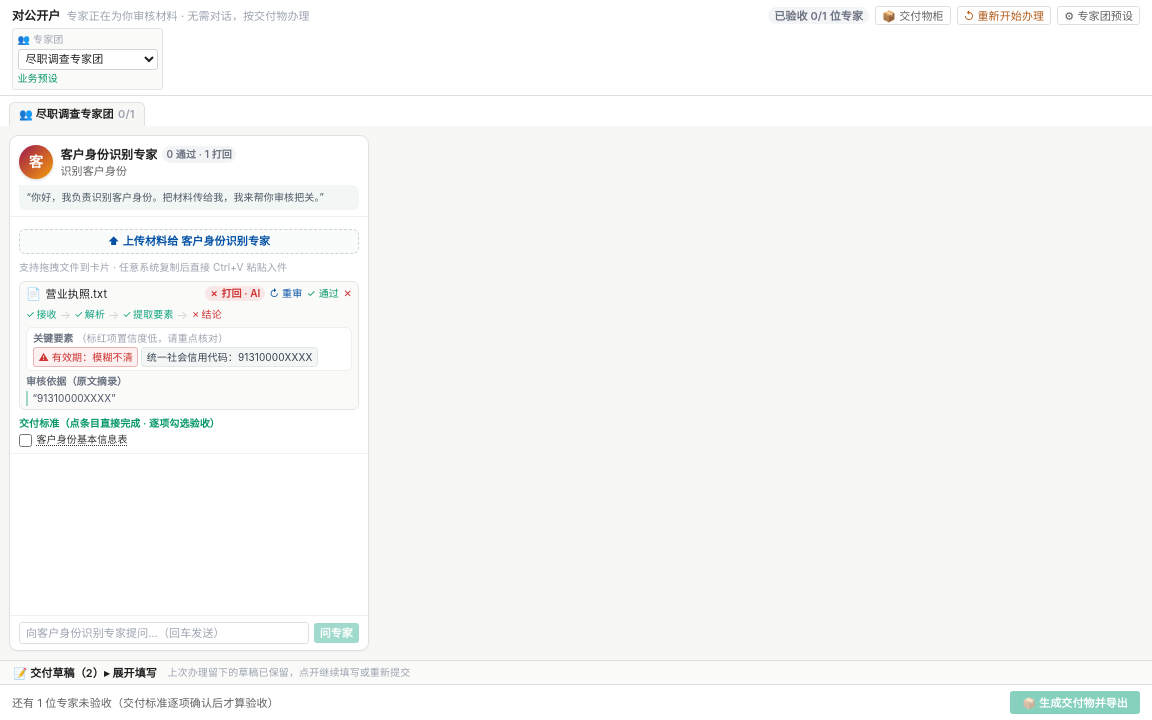
Test: 草稿页签与审核交互（BUGFIX #86/#87） › 草稿审核意见逐条展示且材料行不重复气泡
The width and height of the screenshot is (1152, 720).
Click the button "📝 交付草稿（2）▸ 展开填写" at (85, 672), box [9,664,162,681]
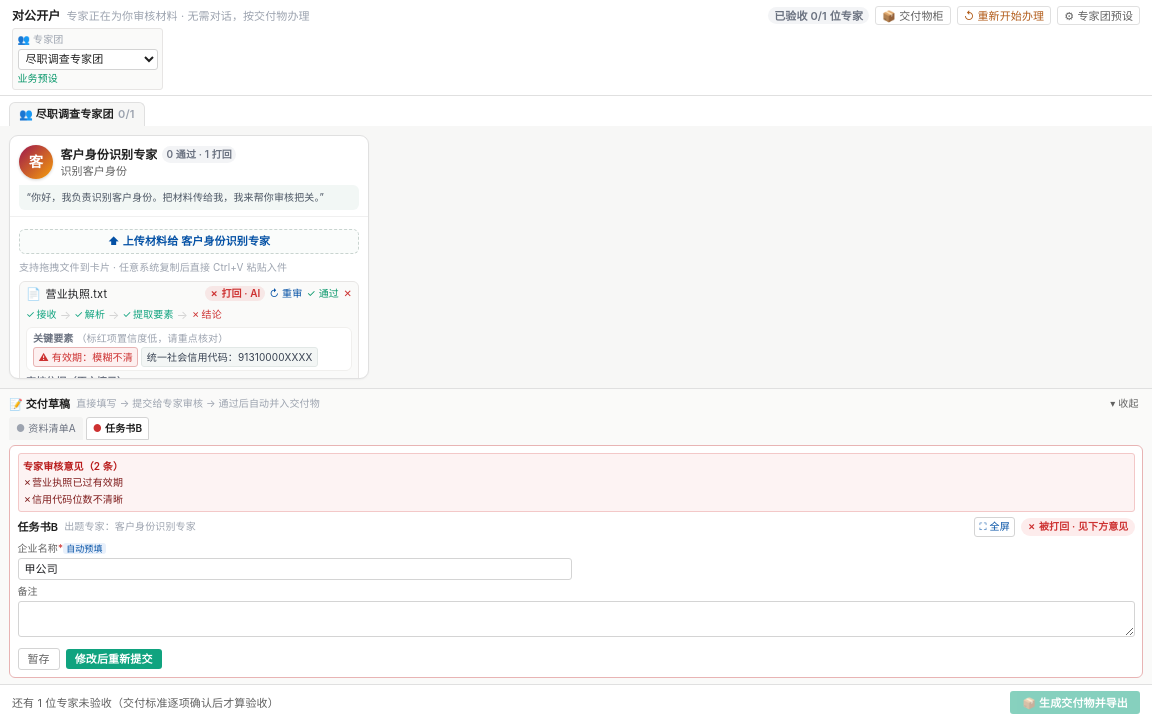
Check: the text "信用代码位数不清晰" is shown, box [32,492,123,504]
Check: the text "营业执照已过有效期" is shown once, box [32,476,123,488]
